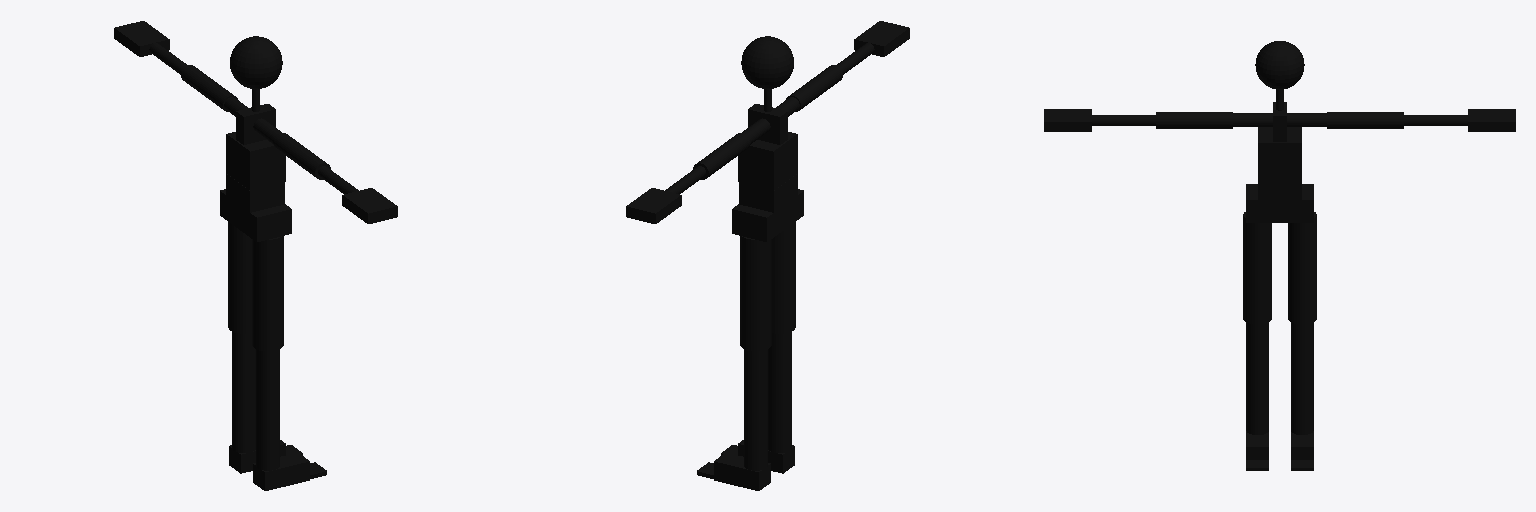
--- Facts derived from the render (not from the file) ---
3 views of the same robot in one strip: view 1: azimuth 30°, elevation 25°; view 2: azimuth 150°, elevation 25°; view 3: azimuth 270°, elevation 25° (orthographic).
Model XSensStyleModel_template with 51 links and 50 joints (48 revolute, 2 fixed), rooted at Pelvis, posed every joint at zero.
Visible links, largest first — view 1: RightUpperLeg, RightLowerLeg, LeftLowerLeg, LeftUpperLeg, Head, Pelvis, RightFoot, RightHand, T12, L5, LeftHand, L3 (+4 smaller); view 2: LeftUpperLeg, LeftLowerLeg, RightLowerLeg, RightUpperLeg, Head, Pelvis, LeftFoot, LeftHand, T12, L5, RightHand, L3 (+4 smaller); view 3: RightUpperLeg, LeftUpperLeg, RightLowerLeg, LeftLowerLeg, Pelvis, Head, RightUpperArm, LeftUpperArm, T12, RightHand, LeftHand, L5 (+7 smaller).
Link boxes in pixels (x1,y1,x2,y2): RightUpperLeg: [252, 236, 283, 351]; RightLowerLeg: [256, 350, 279, 470]; LeftLowerLeg: [232, 332, 255, 452]; LeftUpperLeg: [228, 222, 251, 333]; Head: [230, 36, 282, 88]; Pelvis: [220, 189, 291, 241]; RightFoot: [253, 453, 309, 490]; RightHand: [342, 188, 397, 223]; T12: [226, 132, 285, 170]; L5: [226, 174, 284, 212]; LeftHand: [114, 21, 169, 56]; L3: [226, 154, 285, 190]; LeftUpperLeg: [740, 236, 771, 351]; LeftLowerLeg: [744, 350, 767, 470]; RightLowerLeg: [768, 332, 791, 452]; RightUpperLeg: [772, 222, 795, 333]; Head: [741, 36, 793, 88]; Pelvis: [732, 189, 803, 241]; LeftFoot: [714, 453, 770, 490]; LeftHand: [626, 188, 681, 223]; T12: [738, 132, 797, 170]; L5: [739, 174, 797, 212]; RightHand: [854, 21, 909, 56]; L3: [738, 154, 797, 190]; RightUpperLeg: [1243, 212, 1271, 324]; LeftUpperLeg: [1288, 212, 1316, 324]; RightLowerLeg: [1246, 322, 1268, 434]; LeftLowerLeg: [1291, 322, 1313, 434]; Pelvis: [1246, 184, 1313, 222]; Head: [1255, 41, 1304, 89]; RightUpperArm: [1156, 112, 1232, 128]; LeftUpperArm: [1327, 112, 1403, 128]; T12: [1258, 127, 1301, 160]; RightHand: [1044, 109, 1091, 131]; LeftHand: [1468, 109, 1515, 131]; L5: [1258, 180, 1301, 199].
Size in the robot's own frame: 0.3288 by 1.9 by 1.81 metres.
Geometry: primitives only (box / cylinder / sphere), no mesh files.

The robot description file, URDF, robot "XSensStyleModel_template":
<!--URDF MODEL 48 DoFs-->

<robot name="XSensStyleModel_template">

<material name="color">
    <color rgba="0.1 0.1 0.1 1"/>
</material>

<!--To open this model with Gazebo replace the null masses, inertias and dimensions of the 'fake links f1 and f2'-->
    <!--LINKS-->
	<!--Link base (1)-->
	<link name="Pelvis">
        <inertial>
            <mass value="6.032"/>
			<!--COM origin wrt pHipOrigin-->
            <origin xyz="0           0     0.05412" rpy="0 0 0" />
            <inertia ixx="0.044245" iyy="0.017009" izz="0.050738" ixy="0" ixz="0" iyz="0"/>
        </inertial>

        <visual>
			<!--box origin wrt pHipOrigin-->
            <origin xyz="0           0     0.05412" rpy="0 0 0" />
            <geometry>
                <box size="0.1529      0.2785     0.10227"/>
            </geometry>
            <material name="color"/>
        </visual>

        <collision>
			<!--box origin wrt pHipOrigin-->
            <origin xyz="0           0     0.05412" rpy="0 0 0" />
            <geometry>
                <box size="0.1529      0.2785     0.10227"/>
            </geometry>
        </collision>

    </link>
    <!--Chain from (2) to (7)-->
	<link name="L5_f1">
        <inertial>
            <mass value="0"/>
            <origin xyz="0 0 0" rpy="0 0 0" />
            <inertia ixx="0" iyy="0" izz="0" ixy="0" ixz="0" iyz="0"/>
        </inertial>
    </link>
	<link name="L5">
        <inertial>
            <mass value="7.6908"/>
			<!--COM origin wrt jL5S1-->
            <origin xyz="0           0    0.045123" rpy="0 0 0" />
            <inertia ixx="0.026136" iyy="0.020203" izz="0.0359" ixy="0" ixz="0" iyz="0"/>
        </inertial>

        <visual>
			<!--box origin origin wrt jL5S1-->
            <origin xyz="0           0    0.045123" rpy="0 0 0" />
            <geometry>
                <box size="0.1529     0.18065    0.090247"/>
            </geometry>
            <material name="color"/>
        </visual>

        <collision>
			<!--box origin origin wrt jL5S1-->
            <origin xyz="0           0    0.045123" rpy="0 0 0" />
            <geometry>
                <box size="0.1529     0.18065    0.090247"/>
            </geometry>
        </collision>
    </link>
	<link name="L3_f1">
        <inertial>
            <mass value="0"/>
            <origin xyz="0 0 0" rpy="0 0 0" />
            <inertia ixx="0" iyy="0" izz="0" ixy="0" ixz="0" iyz="0"/>
        </inertial>
    </link>
	<link name="L3">
        <inertial>
            <mass value="7.6908"/>
			<!--COM origin wrt jL4L3-->
            <origin xyz="0           0    0.040754" rpy="0 0 0" />
            <inertia ixx="0.025174" iyy="0.019241" izz="0.0359" ixy="0" ixz="0" iyz="0"/>
        </inertial>

        <visual>
			<!--box origin origin wrt jL4L3-->
            <origin xyz="0           0    0.040754" rpy="0 0 0" />
            <geometry>
                <box size="0.1529     0.18065    0.081508"/>
            </geometry>
            <material name="color"/>
        </visual>

        <collision>
			<!--box origin origin wrt jL4L3-->
            <origin xyz="0           0    0.040754" rpy="0 0 0" />
            <geometry>
                <box size="0.1529     0.18065    0.081508"/>
            </geometry>
        </collision>
    </link>
	<link name="T12_f1">
        <inertial>
            <mass value="0"/>
            <origin xyz="0 0 0" rpy="0 0 0" />
            <inertia ixx="0" iyy="0" izz="0" ixy="0" ixz="0" iyz="0"/>
        </inertial>
    </link>
	<link name="T12">
        <inertial>
            <mass value="7.6908"/>
			<!--COM origin wrt jL1T12-->
            <origin xyz="0           0    0.040754" rpy="0 0 0" />
            <inertia ixx="0.025174" iyy="0.019241" izz="0.0359" ixy="0" ixz="0" iyz="0"/>
        </inertial>

        <visual>
			<!--box origin origin wrt jL1T12-->
            <origin xyz="0           0    0.040754" rpy="0 0 0" />
            <geometry>
                <box size="0.1529     0.18065    0.081508"/>
            </geometry>
            <material name="color"/>
        </visual>

        <collision>
			<!--box origin origin wrt jL1T12-->
            <origin xyz="0           0    0.040754" rpy="0 0 0" />
            <geometry>
                <box size="0.1529     0.18065    0.081508"/>
            </geometry>
        </collision>
    </link>
	<link name="T8_f1">
        <inertial>
            <mass value="0"/>
            <origin xyz="0 0 0" rpy="0 0 0" />
            <inertia ixx="0" iyy="0" izz="0" ixy="0" ixz="0" iyz="0"/>
        </inertial>
    </link>
	<link name="T8_f2">
        <inertial>
            <mass value="0"/>
            <origin xyz="0 0 0" rpy="0 0 0" />
            <inertia ixx="0" iyy="0" izz="0" ixy="0" ixz="0" iyz="0"/>
        </inertial>
    </link>
	<link name="T8">
        <inertial>
            <mass value="3.016"/>
			<!--COM origin wrt jT9T8-->
            <origin xyz="0           0    0.058159" rpy="0 0 0" />
            <inertia ixx="0.0042886" iyy="0.0082897" izz="0.0057774" ixy="0" ixz="0" iyz="0"/>
        </inertial>

        <visual>
			<!--box origin wrt jT9T8-->
            <origin xyz="0           0    0.058159" rpy="0 0 0" />
            <geometry>
                <box size="0.13947    0.059444     0.11632"/>
            </geometry>
            <material name="color"/>
        </visual>

        <collision>
			<!--box origin wrt jT9T8-->
            <origin xyz="0           0    0.058159" rpy="0 0 0" />
            <geometry>
                <box size="0.13947    0.059444     0.11632"/>
            </geometry>
        </collision>

    </link>
	<link name="Neck_f1">
        <inertial>
            <mass value="0"/>
            <origin xyz="0 0 0" rpy="0 0 0" />
            <inertia ixx="0" iyy="0" izz="0" ixy="0" ixz="0" iyz="0"/>
        </inertial>
    </link>
	<link name="Neck_f2">
        <inertial>
            <mass value="0"/>
            <origin xyz="0 0 0" rpy="0 0 0" />
            <inertia ixx="0" iyy="0" izz="0" ixy="0" ixz="0" iyz="0"/>
        </inertial>
    </link>
	<link name="Neck">
        <inertial>
            <mass value="0.9048"/>
			<!--COM origin wrt jT1C7-->
            <origin xyz="0           0    0.048265" rpy="0 0 0" />
            <inertia ixx="0.00092111" iyy="0.00092111" izz="0.00043709" ixy="0" ixz="0" iyz="0"/>
        </inertial>

        <visual>
			<!--box origin wrt jT1C7-->
            <origin xyz="0           0    0.048265" rpy="0 0 0" />
            <geometry>
		<cylinder length="0.096529" radius="0.015541"/>
            </geometry>
            <material name="color"/>
        </visual>

        <collision>
			<!--box origin wrt jT1C7-->
            <origin xyz="0           0    0.048265" rpy="0 0 0" />
            <geometry>
                <cylinder length="0.096529" radius="0.015541"/>
            </geometry>
        </collision>
    </link>
	<link name="Head_f1">
        <inertial>
            <mass value="0"/>
            <origin xyz="0 0 0" rpy="0 0 0" />
            <inertia ixx="0" iyy="0" izz="0" ixy="0" ixz="0" iyz="0"/>
        </inertial>
    </link>
	<link name="Head">
        <inertial>
            <mass value="2.7144"/>
			<!--COM origin wrt jC1Head-->
            <origin xyz="0           0    0.099278" rpy="0 0 0" />
            <inertia ixx="0.010701" iyy="0.010701" izz="0.010701" ixy="0" ixz="0" iyz="0"/>
        </inertial>

        <visual>
			<!--boc origin wrt jC1Head-->
            <origin xyz="0           0    0.099278" rpy="0 0 0" />
            <geometry>
                <sphere radius="0.099278"/>
            </geometry>
            <material name="color"/>
        </visual>

        <collision>
			<!--box origin wrt jC1Head-->
            <origin xyz="0           0    0.099278" rpy="0 0 0" />
            <geometry>
                <sphere radius="0.099278"/>
            </geometry>
        </collision>

    </link>
	<!--Chain from (8) to (11)-->
	<link name="RightShoulder">
        <inertial>
            <mass value="2.3374"/>
			<!--COM origin wrt jRightC7Shoulder-->
            <origin xyz="0   -0.079794           0" rpy="0 0 0" />
            <inertia ixx="0.005427" iyy="0.00093233" izz="0.005427" ixy="0" ixz="0" iyz="0"/>
        </inertial>

        <visual>
			<!--box origin wrt jRightC7Shoulder. RPY rotated of pi/2.-->
            <origin xyz="0   -0.079794           0" rpy="1.5708 0 0" />
            <geometry>
                <cylinder length="0.15959" radius="0.028244"/>
            </geometry>
            <material name="color"/>
        </visual>

        <collision>
			<!--box origin wrt jRightC7Shoulder. RPY rotated of pi/2.-->
            <origin xyz="0   -0.079794           0" rpy="1.5708 0 0" />
            <geometry>
                <cylinder length="0.15959" radius="0.028244"/>
            </geometry>
        </collision>

    </link>
	<link name="RightUpperArm_f1">
        <inertial>
            <mass value="0"/>
            <origin xyz="0 0 0" rpy="0 0 0" />
            <inertia ixx="0" iyy="0" izz="0" ixy="0" ixz="0" iyz="0"/>
        </inertial>
    </link>
	<link name="RightUpperArm_f2">
        <inertial>
            <mass value="0"/>
            <origin xyz="0 0 0" rpy="0 0 0" />
            <inertia ixx="0" iyy="0" izz="0" ixy="0" ixz="0" iyz="0"/>
        </inertial>
    </link>
    <link name="RightUpperArm">
        <inertial>
            <mass value="2.262"/>
			<!--COM origin wrt jRightShoulder-->
            <origin xyz="0    -0.15626           0" rpy="0 0 0" />
            <inertia ixx="0.019063" iyy="0.0013033" izz="0.019063" ixy="0" ixz="0" iyz="0"/>
        </inertial>

        <visual>
			<!--box origin wrt jRightShoulder. RPY rotated of pi/2.-->
            <origin xyz="0    -0.15626           0" rpy="1.5708 0 0" />
            <geometry>
                <cylinder length="0.31253" radius="0.033946"/>
            </geometry>
            <material name="color"/>
        </visual>

        <collision>
			<!--box origin wrt jRightShoulder. RPY rotated of pi/2.-->
            <origin xyz="0    -0.15626           0" rpy="1.5708 0 0" />
            <geometry>
                <cylinder length="0.31253" radius="0.033946"/>
            </geometry>
        </collision>

    </link>
	<link name="RightForeArm_f1">
        <inertial>
            <mass value="0"/>
            <origin xyz="0 0 0" rpy="0 0 0" />
            <inertia ixx="0" iyy="0" izz="0" ixy="0" ixz="0" iyz="0"/>
        </inertial>
    </link>
	<link name="RightForeArm">
        <inertial>
            <mass value="1.508"/>
			<!--COM origin wrt jRightElbow-->
            <origin xyz="0    -0.12824           0" rpy="0 0 0" />
            <inertia ixx="0.0084595" iyy="0.00038616" izz="0.0084595" ixy="0" ixz="0" iyz="0"/>
        </inertial>

        <visual>
			<!--box origin wrt jRightElbow. RPY rotated of pi/2.-->
            <origin xyz="0    -0.12824           0" rpy="1.5708 0 0" />
            <geometry>
                <cylinder length="0.25648" radius="0.022631"/>
            </geometry>
            <material name="color"/>
        </visual>

        <collision>
			<!--box origin wrt jRightElbow. RPY rotated of pi/2.-->
            <origin xyz="0    -0.12824           0" rpy="1.5708 0 0" />
            <geometry>
                <cylinder length="0.25648" radius="0.022631"/>
            </geometry>
        </collision>

    </link>
	<link name="RightHand_f1">
        <inertial>
            <mass value="0"/>
            <origin xyz="0 0 0" rpy="0 0 0" />
            <inertia ixx="0" iyy="0" izz="0" ixy="0" ixz="0" iyz="0"/>
        </inertial>
    </link>
	<link name="RightHand">
        <inertial>
            <mass value="0.4524"/>
			<!--COM origin wrt jRightWrist-->
            <origin xyz="0   -0.096206           0" rpy="0 0 0" />
            <inertia ixx="0.001473" iyy="0.00069756" izz="0.0020161" ixy="0" ixz="0" iyz="0"/>
        </inertial>

        <visual>
			<!--box origin wrt jRightWrist-->
            <origin xyz="0   -0.096206           0" rpy="0 0 0" />
            <geometry>
                <box size="0.12827     0.19241    0.045261"/>
            </geometry>
            <material name="color"/>
        </visual>

        <collision>
			<!--box origin wrt jRightWrist-->
            <origin xyz="0   -0.096206           0" rpy="0 0 0" />
            <geometry>
                <box size="0.12827     0.19241    0.045261"/>
            </geometry>
        </collision>

    </link>
    <link name="RightHandCOM">
        <inertial>
            <mass value="0.00001"/>
            <origin xyz="0 0 0" rpy="0 0 0" />
            <inertia ixx="0" iyy="0" izz="0" ixy="0" ixz="0" iyz="0"/>
        </inertial>
        <visual>
            <!--box origin wrt jRightWrist-->
            <origin xyz="0   0           0" rpy="0 0 0" />
            <geometry>
                <box size="0     0    0"/>
            </geometry>
            <material name="color"/>
        </visual>
    </link>
	<!--Chain from (12) to (15)-->
	<link name="LeftShoulder">
        <inertial>
            <mass value="2.3374"/>
			<!--COM origin wrt jLeftC7Shoulder-->
            <origin xyz="0    0.079794           0" rpy="0 0 0" />
            <inertia ixx="0.005427" iyy="0.00093233" izz="0.005427" ixy="0" ixz="0" iyz="0"/>
        </inertial>

        <visual>
			<!--box origin wrt jLeftC7Shoulder. RPY rotated of pi/2.-->
            <origin xyz="0    0.079794           0" rpy="1.5708 0 0" />
            <geometry>
                <cylinder length="0.15959" radius="0.028244"/>
            </geometry>
            <material name="color"/>
        </visual>

        <collision>
			<!--box origin wrt jLeftC7Shoulder. RPY rotated of pi/2.-->
            <origin xyz="0    0.079794           0" rpy="1.5708 0 0" />
            <geometry>
                <cylinder length="0.15959" radius="0.028244"/>
            </geometry>
        </collision>

    </link>
	<link name="LeftUpperArm_f1">
        <inertial>
            <mass value="0"/>
            <origin xyz="0 0 0" rpy="0 0 0" />
            <inertia ixx="0" iyy="0" izz="0" ixy="0" ixz="0" iyz="0"/>
        </inertial>
    </link>
	<link name="LeftUpperArm_f2">
        <inertial>
            <mass value="0"/>
            <origin xyz="0 0 0" rpy="0 0 0" />
            <inertia ixx="0" iyy="0" izz="0" ixy="0" ixz="0" iyz="0"/>
        </inertial>
    </link>
	<link name="LeftUpperArm">
        <inertial>
            <mass value="2.262"/>
			<!--COM origin wrt jLeftShoulder-->
            <origin xyz="0     0.15626           0" rpy="0 0 0" />
            <inertia ixx="0.019063" iyy="0.0013033" izz="0.019063" ixy="0" ixz="0" iyz="0"/>
        </inertial>

        <visual>
			<!--box origin wrt jLeftShoulder. RPY rotated of pi/2.-->
            <origin xyz="0     0.15626           0" rpy="1.5708 0 0" />
            <geometry>
                <cylinder length="0.31253" radius="0.033946"/>
            </geometry>
            <material name="color"/>
        </visual>

        <collision>
			<!--box origin wrt jLeftShoulder. RPY rotated of pi/2.-->
            <origin xyz="0     0.15626           0" rpy="1.5708 0 0" />
            <geometry>
                <cylinder length="0.31253" radius="0.033946"/>
            </geometry>
        </collision>

    </link>
	<link name="LeftForeArm_f1">
        <inertial>
            <mass value="0"/>
            <origin xyz="0 0 0" rpy="0 0 0" />
            <inertia ixx="0" iyy="0" izz="0" ixy="0" ixz="0" iyz="0"/>
        </inertial>
    </link>
	<link name="LeftForeArm">
        <inertial>
            <mass value="1.508"/>
			<!--COM origin wrt jLeftElbow-->
            <origin xyz="0     0.12824           0" rpy="0 0 0" />
            <inertia ixx="0.0084595" iyy="0.00038616" izz="0.0084595" ixy="0" ixz="0" iyz="0"/>
        </inertial>

        <visual>
			<!--box origin wrt jLeftElbow. RPY rotated of pi/2.-->
            <origin xyz="0     0.12824           0" rpy="1.5708 0 0" />
            <geometry>
                <cylinder length="0.25648" radius="0.022631"/>
            </geometry>
            <material name="color"/>
        </visual>

        <collision>
			<!--box origin wrt jLeftElbow. RPY rotated of pi/2.-->
            <origin xyz="0     0.12824           0" rpy="1.5708 0 0" />
            <geometry>
                <cylinder length="0.25648" radius="0.022631"/>
            </geometry>
        </collision>

    </link>
	<link name="LeftHand_f1">
        <inertial>
            <mass value="0"/>
            <origin xyz="0 0 0" rpy="0 0 0" />
            <inertia ixx="0" iyy="0" izz="0" ixy="0" ixz="0" iyz="0"/>
        </inertial>
    </link>
	<link name="LeftHand">
        <inertial>
            <mass value="0.4524"/>
			<!--COM origin wrt jLeftWrist-->
            <origin xyz="0    0.096206           0" rpy="0 0 0" />
            <inertia ixx="0.001473" iyy="0.00069756" izz="0.0020161" ixy="0" ixz="0" iyz="0"/>
        </inertial>

        <visual>
			<!--COM origin wrt jLeftWrist-->
            <origin xyz="0    0.096206           0" rpy="0 0 0" />
            <geometry>
                <box size="0.12827     0.19241    0.045261"/>
            </geometry>
            <material name="color"/>
        </visual>

        <collision>
			<!--COM origin wrt jLeftWrist-->
            <origin xyz="0    0.096206           0" rpy="0 0 0" />
            <geometry>
                <box size="0.12827     0.19241    0.045261"/>
            </geometry>
        </collision>

    </link>
    <link name="LeftHandCOM">
        <inertial>
            <mass value="0.00001"/>
            <origin xyz="0 0 0" rpy="0 0 0" />
            <inertia ixx="0" iyy="0" izz="0" ixy="0" ixz="0" iyz="0"/>
        </inertial>
        <visual>
            <!--COM origin wrt jLeftWrist-->
            <origin xyz="0    0           0" rpy="0 0 0" />
            <geometry>
                <box size="0     0    0"/>
            </geometry>
            <material name="color"/>
        </visual>
    </link>
	<!--Chain from (16) to (19)-->
	<link name="RightUpperLeg_f1">
        <inertial>
            <mass value="0"/>
            <origin xyz="0 0 0" rpy="0 0 0" />
            <inertia ixx="0" iyy="0" izz="0" ixy="0" ixz="0" iyz="0"/>
        </inertial>
    </link>
	<link name="RightUpperLeg_f2">
        <inertial>
            <mass value="0"/>
            <origin xyz="0 0 0" rpy="0 0 0" />
            <inertia ixx="0" iyy="0" izz="0" ixy="0" ixz="0" iyz="0"/>
        </inertial>
    </link>
    <link name="RightUpperLeg">
        <inertial>
            <mass value="9.425"/>
			<!--COM origin wrt jRightHip-->
            <origin xyz="0           0    -0.23081" rpy="0 0 0" />
            <inertia ixx="0.17541" iyy="0.17541" izz="0.016095" ixy="0" ixz="0" iyz="0"/>
        </inertial>

        <visual>
			<!--box origin wrt jRightHip-->
            <origin xyz="0           0    -0.23081" rpy="0 0 0" />
            <geometry>
                <cylinder length="0.46162" radius="0.058441"/>
            </geometry>
            <material name="color"/>
        </visual>

        <collision>
			<!--box origin wrt jRightHip-->
            <origin xyz="0           0    -0.23081" rpy="0 0 0" />
            <geometry>
                <cylinder length="0.46162" radius="0.058441"/>
            </geometry>
        </collision>

    </link>
	<link name="RightLowerLeg_f1">
        <inertial>
            <mass value="0"/>
            <origin xyz="0 0 0" rpy="0 0 0" />
            <inertia ixx="0" iyy="0" izz="0" ixy="0" ixz="0" iyz="0"/>
        </inertial>
    </link>
    <link name="RightLowerLeg">
        <inertial>
            <mass value="2.7521"/>
			<!--COM origin wrt jRightKnee-->
            <origin xyz="0           0    -0.24913" rpy="0 0 0" />
            <inertia ixx="0.058368" iyy="0.058368" izz="0.0028618" ixy="0" ixz="0" iyz="0"/>
        </inertial>

        <visual>
			<!--box origin wrt jRightKnee-->
            <origin xyz="0           0    -0.24913" rpy="0 0 0" />
            <geometry>
                <cylinder length="0.49826" radius="0.045604"/>
            </geometry>
            <material name="color"/>
        </visual>

        <collision>
			<!--box origin wrt jRightKnee-->
            <origin xyz="0           0    -0.24913" rpy="0 0 0" />
            <geometry>
                <cylinder length="0.49826" radius="0.045604"/>
            </geometry>
        </collision>

    </link>
	<link name="RightFoot_f1">
        <inertial>
            <mass value="0"/>
            <origin xyz="0 0 0" rpy="0 0 0" />
            <inertia ixx="0" iyy="0" izz="0" ixy="0" ixz="0" iyz="0"/>
        </inertial>
    </link>
	<link name="RightFoot_f2">
        <inertial>
            <mass value="0"/>
            <origin xyz="0 0 0" rpy="0 0 0" />
            <inertia ixx="0" iyy="0" izz="0" ixy="0" ixz="0" iyz="0"/>
        </inertial>
    </link>
    <link name="RightFoot">
        <inertial>
            <mass value="0.9802"/>
			<!--COM origin wrt jRightAnkle-->
            <origin xyz="0.058597           0   -0.039505" rpy="0 0 0" />
            <inertia ixx="0.0011894" iyy="0.0036242" izz="0.0037938" ixy="0" ixz="0" iyz="0"/>
        </inertial>

        <visual>
			<!--box origin wrt jRightAnkle-->
	    	<origin xyz="0.058597           0   -0.039505" rpy="0 0 0" />
            <geometry>
                <box size="0.19526    0.091208     0.07901"/>
            </geometry>
            <material name="color"/>
        </visual>

        <collision>
			<!--box origin wrt jRightAnkle-->
		    <origin xyz="0.058597           0   -0.039505" rpy="0 0 0" />
	            <geometry>
	                <box size="0.19526    0.091208     0.07901"/>
	            </geometry>
        </collision>

    </link>
    <link name="RightToe">
        <inertial>
            <mass value="0.1131"/>
			<!--COM origin wrt jRightBallFoot-->
            <origin xyz="0.037369           0           0" rpy="0 0 0" />
            <inertia ixx="8.1141e-05" iyy="5.5383e-05" izz="0.00013105" ixy="0" ixz="0" iyz="0"/>
        </inertial>

        <visual>
			<!--box origin wrt jRightBallFoot-->
            <origin xyz="0.037369           0           0" rpy="0 0 0" />
            <geometry>
                <box size="0.074739    0.091208    0.017037"/>
            </geometry>
            <material name="color"/>
        </visual>

        <collision>
			<!--box origin wrt jRightBallFoot-->
            <origin xyz="0.037369           0           0" rpy="0 0 0" />
            <geometry>
                <box size="0.074739    0.091208    0.017037"/>
            </geometry>
        </collision>
    </link>
	<!--Chain from (20) to (23)-->
	<link name="LeftUpperLeg_f1">
        <inertial>
            <mass value="0"/>
            <origin xyz="0 0 0" rpy="0 0 0" />
            <inertia ixx="0" iyy="0" izz="0" ixy="0" ixz="0" iyz="0"/>
        </inertial>
    </link>
	<link name="LeftUpperLeg_f2">
        <inertial>
            <mass value="0"/>
            <origin xyz="0 0 0" rpy="0 0 0" />
            <inertia ixx="0" iyy="0" izz="0" ixy="0" ixz="0" iyz="0"/>
        </inertial>
    </link>
    <link name="LeftUpperLeg">
        <inertial>
            <mass value="9.425"/>
			<!--COM origin wrt jLeftHip-->
            <origin xyz="0           0    -0.23081" rpy="0 0 0" />
            <inertia ixx="0.17541" iyy="0.17541" izz="0.016095" ixy="0" ixz="0" iyz="0"/>
        </inertial>

        <visual>
			<!--box origin wrt jLeftHip-->
            <origin xyz="0           0    -0.23081" rpy="0 0 0" />
            <geometry>
                <cylinder length="0.46162" radius="0.058441"/>
            </geometry>
            <material name="color"/>
        </visual>

        <collision>
			<!--box origin wrt jLeftHip-->
            <origin xyz="0           0    -0.23081" rpy="0 0 0" />
            <geometry>
                <cylinder length="0.46162" radius="0.058441"/>
            </geometry>
        </collision>

    </link>
	<link name="LeftLowerLeg_f1">
        <inertial>
            <mass value="0"/>
            <origin xyz="0 0 0" rpy="0 0 0" />
            <inertia ixx="0" iyy="0" izz="0" ixy="0" ixz="0" iyz="0"/>
        </inertial>
    </link>
	<link name="LeftLowerLeg">
        <inertial>
            <mass value="2.7521"/>
			<!--COM origin wrt jLeftKnee-->
            <origin xyz="0           0    -0.24913" rpy="0 0 0" />
            <inertia ixx="0.058368" iyy="0.058368" izz="0.0028618" ixy="0" ixz="0" iyz="0"/>
        </inertial>

        <visual>
			<!--box origin wrt jLeftKnee-->
            <origin xyz="0           0    -0.24913" rpy="0 0 0" />
            <geometry>
		<cylinder length="0.49826" radius="0.045604"/>
            </geometry>
            <material name="color"/>
        </visual>

        <collision>
			<!--box origin wrt jLeftKnee-->
            <origin xyz="0           0    -0.24913" rpy="0 0 0" />
            <geometry>
		<cylinder length="0.49826" radius="0.045604"/>
            </geometry>
        </collision>

    </link>
	<link name="LeftFoot_f1">
        <inertial>
            <mass value="0"/>
            <origin xyz="0 0 0" rpy="0 0 0" />
            <inertia ixx="0" iyy="0" izz="0" ixy="0" ixz="0" iyz="0"/>
        </inertial>
    </link>
	<link name="LeftFoot_f2">
        <inertial>
            <mass value="0"/>
            <origin xyz="0 0 0" rpy="0 0 0" />
            <inertia ixx="0" iyy="0" izz="0" ixy="0" ixz="0" iyz="0"/>
        </inertial>
    </link>
    <link name="LeftFoot">
        <inertial>
            <mass value="0.9802"/>
			<!--COM origin wrt jLeftAnkle-->
            <origin xyz="0.058597           0   -0.039505" rpy="0 0 0" />
            <inertia ixx="0.0011894" iyy="0.0036242" izz="0.0037938" ixy="0" ixz="0" iyz="0"/>
        </inertial>

        <visual>
			<!--box origin wrt jLeftAnkle-->
	   	 	<origin xyz="0.058597           0   -0.039505" rpy="0 0 0" />
            <geometry>
                <box size="0.19526    0.091208     0.07901"/>
            </geometry>
            <material name="color"/>
        </visual>

        <collision>
			<!--box origin wrt jLeftAnkle-->
		    <origin xyz="0.058597           0   -0.039505" rpy="0 0 0" />
	            <geometry>
	                <box size="0.19526    0.091208     0.07901"/>
	            </geometry>
        </collision>

    </link>
	<link name="LeftToe">
        <inertial>
            <mass value="0.1131"/>
			<!--COM origin wrt jLeftBallFoot-->
            <origin xyz="0.037369           0           0" rpy="0 0 0" />
            <inertia ixx="8.1141e-05" iyy="5.5383e-05" izz="0.00013105" ixy="0" ixz="0" iyz="0"/>
        </inertial>

        <visual>
			<!--box origin wrt jLeftBallFoot-->
            <origin xyz="0.037369           0           0" rpy="0 0 0" />
            <geometry>
                <box size="0.074739    0.091208    0.017037"/>
            </geometry>
            <material name="color"/>
        </visual>

        <collision>
			<!--box origin wrt jLeftBallFoot-->
            <origin xyz="0.037369           0           0" rpy="0 0 0" />
            <geometry>
                <box size="0.074739    0.091208    0.017037"/>
            </geometry>
        </collision>
    </link>


	<!--JOINTS-->
	<!--Chain from (2) to (7)-->
	<joint name="jL5S1_rotx" type="revolute">
        <origin xyz="-0.000609           0     0.10526" rpy="0 0 0"/>
        <parent link="Pelvis"/>
        <child link="L5_f1"/>
        <dynamics damping="0.1" friction="0.0"/>
        <limit effort="30" velocity="1.0" lower="-10.0" upper="10.0" />
        <axis xyz="1 0 0" />
    </joint>
	<joint name="jL5S1_roty" type="revolute">
        <origin xyz="0 0 0" rpy="0 0 0"/>
        <parent link="L5_f1"/>
        <child link="L5"/>
        <dynamics damping="0.1" friction="0.0"/>
        <limit effort="30" velocity="1.0" lower="-10.0" upper="10.0" />
        <axis xyz="0 1 0" />
    </joint>
	<joint name="jL4L3_rotx" type="revolute">
        <origin xyz="0.001106           0    0.090247" rpy="0 0 0"/>
        <parent link="L5"/>
        <child link="L3_f1"/>
        <dynamics damping="0.1" friction="0.0"/>
        <limit effort="30" velocity="1.0" lower="-10.0" upper="10.0" />
        <axis xyz="1 0 0" />
    </joint>
	<joint name="jL4L3_roty" type="revolute">
        <origin xyz="0 0 0" rpy="0 0 0"/>
        <parent link="L3_f1"/>
        <child link="L3"/>
        <dynamics damping="0.1" friction="0.0"/>
        <limit effort="30" velocity="1.0" lower="-10.0" upper="10.0" />
        <axis xyz="0 1 0" />
    </joint>
	<joint name="jL1T12_rotx" type="revolute">
        <origin xyz="0           0    0.081508" rpy="0 0 0"/>
        <parent link="L3"/>
        <child link="T12_f1"/>
        <dynamics damping="0.1" friction="0.0"/>
        <limit effort="30" velocity="1.0" lower="-10.0" upper="10.0" />
        <axis xyz="1 0 0" />
    </joint>
	<joint name="jL1T12_roty" type="revolute">
        <origin xyz="0 0 0" rpy="0 0 0"/>
        <parent link="T12_f1"/>
        <child link="T12"/>
        <dynamics damping="0.1" friction="0.0"/>
        <limit effort="30" velocity="1.0" lower="-10.0" upper="10.0" />
        <axis xyz="0 1 0" />
    </joint>
	<joint name="jT9T8_rotx" type="revolute">
        <origin xyz="0           0    0.081508" rpy="0 0 0"/>
        <parent link="T12"/>
        <child link="T8_f1"/>
        <dynamics damping="0.1" friction="0.0"/>
        <limit effort="30" velocity="1.0" lower="-10.0" upper="10.0" />
        <axis xyz="1 0 0" />
    </joint>
	<joint name="jT9T8_roty" type="revolute">
        <origin xyz="0 0 0" rpy="0 0 0"/>
        <parent link="T8_f1"/>
        <child link="T8_f2"/>
        <dynamics damping="0.1" friction="0.0"/>
        <limit effort="30" velocity="1.0" lower="-10.0" upper="10.0" />
        <axis xyz="0 1 0" />
    </joint>
    <joint name="jT9T8_rotz" type="revolute">
        <origin xyz="0 0 0" rpy="0 0 0"/>
        <parent link="T8_f2"/>
        <child link="T8"/>
        <dynamics damping="0.1" friction="0.0"/>
        <limit effort="30" velocity="1.0" lower="-10.0" upper="10.0" />
        <axis xyz="0 0 1" />
    </joint>
	<joint name="jT1C7_rotx" type="revolute">
        <origin xyz="0           0     0.11632" rpy="0 0 0"/>
        <parent link="T8"/>
        <child link="Neck_f1"/>
        <dynamics damping="0.1" friction="0.0"/>
        <limit effort="30" velocity="1.0" lower="-10.0" upper="10.0" />
        <axis xyz="1 0 0" />
    </joint>
	<joint name="jT1C7_roty" type="revolute">
        <origin xyz="0 0 0" rpy="0 0 0"/>
        <parent link="Neck_f1"/>
        <child link="Neck_f2"/>
        <dynamics damping="0.1" friction="0.0"/>
        <limit effort="30" velocity="1.0" lower="-10.0" upper="10.0" />
        <axis xyz="0 1 0" />
    </joint>
    <joint name="jT1C7_rotz" type="revolute">
        <origin xyz="0 0 0" rpy="0 0 0"/>
        <parent link="Neck_f2"/>
        <child link="Neck"/>
        <dynamics damping="0.1" friction="0.0"/>
        <limit effort="30" velocity="1.0" lower="-10.0" upper="10.0" />
        <axis xyz="0 0 1" />
    </joint>
	<joint name="jC1Head_rotx" type="revolute">
        <origin xyz="0.000997           0    0.096529" rpy="0 0 0"/>
        <parent link="Neck"/>
        <child link="Head_f1"/>
        <dynamics damping="0.1" friction="0.0"/>
        <limit effort="30" velocity="1.0" lower="-10.0" upper="10.0" />
        <axis xyz="1 0 0" />
    </joint>
	<joint name="jC1Head_roty" type="revolute">
        <origin xyz="0 0 0" rpy="0 0 0"/>
        <parent link="Head_f1"/>
        <child link="Head"/>
        <dynamics damping="0.1" friction="0.0"/>
        <limit effort="30" velocity="1.0" lower="-10.0" upper="10.0" />
        <axis xyz="0 1 0" />
    </joint>
	<!--Chain from (8) to (11)-->
	<joint name="jRightC7Shoulder_rotx" type="revolute">
        <origin xyz="0   -0.029722    0.065597" rpy="0 0 0"/>
        <parent link="T8"/>
        <child link="RightShoulder"/>
        <dynamics damping="0.1" friction="0.0"/>
        <limit effort="30" velocity="1.0" lower="-10.0" upper="10.0" />
        <axis xyz="1 0 0" />
    </joint>
	<joint name="jRightShoulder_rotx" type="revolute">
        <origin xyz="0    -0.15959           0" rpy="0 0 0"/>
        <parent link="RightShoulder"/>
        <child link="RightUpperArm_f1"/>
        <dynamics damping="0.1" friction="0.0"/>
        <limit effort="30" velocity="1.0" lower="-10.0" upper="10.0" />
        <axis xyz="1 0 0" />
    </joint>
	<joint name="jRightShoulder_roty" type="revolute">
        <origin xyz="0 0 0" rpy="0 0 0"/>
        <parent link="RightUpperArm_f1"/>
        <child link="RightUpperArm_f2"/>
        <dynamics damping="0.1" friction="0.0"/>
        <limit effort="30" velocity="1.0" lower="-10.0" upper="10.0" />
        <axis xyz="0 1 0" />
    </joint>
    <joint name="jRightShoulder_rotz" type="revolute">
        <origin xyz="0 0 0" rpy="0 0 0"/>
        <parent link="RightUpperArm_f2"/>
        <child link="RightUpperArm"/>
        <dynamics damping="0.1" friction="0.0"/>
        <limit effort="30" velocity="1.0" lower="-10.0" upper="10.0" />
        <axis xyz="0 0 1" />
    </joint>
	<joint name="jRightElbow_roty" type="revolute">
        <origin xyz="0    -0.31253           0" rpy="0 0 0"/>
        <parent link="RightUpperArm"/>
        <child link="RightForeArm_f1"/>
        <dynamics damping="0.1" friction="0.0"/>
        <limit effort="30" velocity="1.0" lower="-10.0" upper="10.0" />
        <axis xyz="0 1 0" />
    </joint>
	<joint name="jRightElbow_rotz" type="revolute">
        <origin xyz="0 0 0" rpy="0 0 0"/>
        <parent link="RightForeArm_f1"/>
        <child link="RightForeArm"/>
        <dynamics damping="0.1" friction="0.0"/>
        <limit effort="30" velocity="1.0" lower="-10.0" upper="10.0" />
        <axis xyz="0 0 1" />
    </joint>
	<joint name="jRightWrist_rotx" type="revolute">
        <origin xyz="3.3e-05    -0.25648           0" rpy="0 0 0"/>
        <parent link="RightForeArm"/>
        <child link="RightHand_f1"/>
        <dynamics damping="0.1" friction="0.0"/>
        <limit effort="30" velocity="1.0" lower="-10.0" upper="10.0" />
        <axis xyz="1 0 0" />
    </joint>
	<joint name="jRightWrist_rotz" type="revolute">
        <origin xyz="0 0 0" rpy="0 0 0"/>
        <parent link="RightHand_f1"/>
        <child link="RightHand"/>
        <dynamics damping="0.1" friction="0.0"/>
        <limit effort="30" velocity="1.0" lower="-10.0" upper="10.0" />
        <axis xyz="0 0 1" />
    </joint>
    <joint name="jRightHandCOM" type="fixed">
        <origin xyz="0 -0.096206 0" rpy="0 0 0"/>
        <parent link="RightHand"/>
        <child link="RightHandCOM"/>
        <axis xyz="0 0 0" />
    </joint>
	<!--Chain from (12) to (15)-->
	<joint name="jLeftC7Shoulder_rotx" type="revolute">
        <origin xyz="0    0.029722    0.065597" rpy="0 0 0"/>
        <parent link="T8"/>
        <child link="LeftShoulder"/>
        <dynamics damping="0.1" friction="0.0"/>
        <limit effort="30" velocity="1.0" lower="-10.0" upper="10.0" />
        <axis xyz="1 0 0" />
    </joint>
	<joint name="jLeftShoulder_rotx" type="revolute">
        <origin xyz="0     0.15959           0" rpy="0 0 0"/>
        <parent link="LeftShoulder"/>
        <child link="LeftUpperArm_f1"/>
        <dynamics damping="0.1" friction="0.0"/>
        <limit effort="30" velocity="1.0" lower="-10.0" upper="10.0" />
        <axis xyz="1 0 0" />
    </joint>
	<joint name="jLeftShoulder_roty" type="revolute">
        <origin xyz="0 0 0" rpy="0 0 0"/>
        <parent link="LeftUpperArm_f1"/>
        <child link="LeftUpperArm_f2"/>
        <dynamics damping="0.1" friction="0.0"/>
        <limit effort="30" velocity="1.0" lower="-10.0" upper="10.0" />
        <axis xyz="0 1 0" />
    </joint>
    <joint name="jLeftShoulder_rotz" type="revolute">
        <origin xyz="0 0 0" rpy="0 0 0"/>
        <parent link="LeftUpperArm_f2"/>
        <child link="LeftUpperArm"/>
        <dynamics damping="0.1" friction="0.0"/>
        <limit effort="30" velocity="1.0" lower="-10.0" upper="10.0" />
        <axis xyz="0 0 1" />
    </joint>
    <joint name="jLeftElbow_roty" type="revolute">
        <origin xyz="0     0.31253           0" rpy="0 0 0"/>
        <parent link="LeftUpperArm"/>
        <child link="LeftForeArm_f1"/>
        <dynamics damping="0.1" friction="0.0"/>
        <limit effort="30" velocity="1.0" lower="-10.0" upper="10.0" />
        <axis xyz="0 1 0" />
    </joint>
    <joint name="jLeftElbow_rotz" type="revolute">
        <origin xyz="0 0 0" rpy="0 0 0"/>
        <parent link="LeftForeArm_f1"/>
        <child link="LeftForeArm"/>
        <dynamics damping="0.1" friction="0.0"/>
        <limit effort="30" velocity="1.0" lower="-10.0" upper="10.0" />
        <axis xyz="0 0 1" />
    </joint>
	<joint name="jLeftWrist_rotx" type="revolute">
        <origin xyz="3.3e-05     0.25648           0" rpy="0 0 0"/>
        <parent link="LeftForeArm"/>
        <child link="LeftHand_f1"/>
        <dynamics damping="0.1" friction="0.0"/>
        <limit effort="30" velocity="1.0" lower="-10.0" upper="10.0" />
        <axis xyz="1 0 0" />
    </joint>
	<joint name="jLeftWrist_rotz" type="revolute">
        <origin xyz="0 0 0" rpy="0 0 0"/>
        <parent link="LeftHand_f1"/>
        <child link="LeftHand"/>
        <dynamics damping="0.1" friction="0.0"/>
        <limit effort="30" velocity="1.0" lower="-10.0" upper="10.0" />
        <axis xyz="0 0 1" />
    </joint>
    <joint name="jLeftHandCOM" type="fixed">
        <origin xyz="0 0.096206 0" rpy="0 0 0"/>
        <parent link="LeftHand"/>
        <child link="LeftHandCOM"/>
        <axis xyz="0 0 0" />
    </joint>
	<!--Chain from (16) to (19)-->
	<joint name="jRightHip_rotx" type="revolute">
        <origin xyz="0.000305   -0.090327    0.002984" rpy="0 0 0"/>
        <parent link="Pelvis"/>
        <child link="RightUpperLeg_f1"/>
        <dynamics damping="0.1" friction="0.0"/>
        <limit effort="30" velocity="1.0" lower="-10.0" upper="10.0" />
        <axis xyz="1 0 0" />
    </joint>
	<joint name="jRightHip_roty" type="revolute">
        <origin xyz="0 0 0" rpy="0 0 0"/>
        <parent link="RightUpperLeg_f1"/>
        <child link="RightUpperLeg_f2"/>
        <dynamics damping="0.1" friction="0.0"/>
        <limit effort="30" velocity="1.0" lower="-10.0" upper="10.0" />
        <axis xyz="0 1 0" />
    </joint>
    <joint name="jRightHip_rotz" type="revolute">
        <origin xyz="0 0 0" rpy="0 0 0"/>
        <parent link="RightUpperLeg_f2"/>
        <child link="RightUpperLeg"/>
        <dynamics damping="0.1" friction="0.0"/>
        <limit effort="30" velocity="1.0" lower="-10.0" upper="10.0" />
        <axis xyz="0 0 1" />
    </joint>
	<joint name="jRightKnee_roty" type="revolute">
        <origin xyz="-9.6e-05           0    -0.46162" rpy="0 0 0"/>
        <parent link="RightUpperLeg"/>
        <child link="RightLowerLeg_f1"/>
        <dynamics damping="0.1" friction="0.0"/>
        <limit effort="30" velocity="1.0" lower="-10.0" upper="10.0" />
        <axis xyz="0 1 0" />
    </joint>
	<joint name="jRightKnee_rotz" type="revolute">
        <origin xyz="0 0 0" rpy="0 0 0"/>
        <parent link="RightLowerLeg_f1"/>
        <child link="RightLowerLeg"/>
        <dynamics damping="0.1" friction="0.0"/>
        <limit effort="30" velocity="1.0" lower="-10.0" upper="10.0" />
        <axis xyz="0 0 1" />
    </joint>
	<joint name="jRightAnkle_rotx" type="revolute">
        <origin xyz="-0.000118           0    -0.49826" rpy="0 0 0"/>
        <parent link="RightLowerLeg"/>
        <child link="RightFoot_f1"/>
        <dynamics damping="0.1" friction="0.0"/>
        <limit effort="30" velocity="1.0" lower="-10.0" upper="10.0" />
        <axis xyz="1 0 0" />
    </joint>
	<joint name="jRightAnkle_roty" type="revolute">
        <origin xyz="0 0 0" rpy="0 0 0"/>
        <parent link="RightFoot_f1"/>
        <child link="RightFoot_f2"/>
        <dynamics damping="0.1" friction="0.0"/>
        <limit effort="30" velocity="1.0" lower="-10.0" upper="10.0" />
        <axis xyz="0 1 0" />
    </joint>
    <joint name="jRightAnkle_rotz" type="revolute">
        <origin xyz="0 0 0" rpy="0 0 0"/>
        <parent link="RightFoot_f2"/>
        <child link="RightFoot"/>
        <dynamics damping="0.1" friction="0.0"/>
        <limit effort="30" velocity="1.0" lower="-10.0" upper="10.0" />
        <axis xyz="0 0 1" />
    </joint>
	<joint name="jRightBallFoot_roty" type="revolute">
        <origin xyz="0.15623           0   -0.066173" rpy="0 0 0"/>
        <parent link="RightFoot"/>
        <child link="RightToe"/>
        <dynamics damping="0.1" friction="0.0"/>
        <limit effort="30" velocity="1.0" lower="-10.0" upper="10.0" />
        <axis xyz="0 1 0" />
    </joint>
	<!--Chain from (20) to (23)-->
	<joint name="jLeftHip_rotx" type="revolute">
        <origin xyz="0.000305    0.090327    0.002984" rpy="0 0 0"/>
        <parent link="Pelvis"/>
        <child link="LeftUpperLeg_f1"/>
        <dynamics damping="0.1" friction="0.0"/>
        <limit effort="30" velocity="1.0" lower="-10.0" upper="10.0" />
        <axis xyz="1 0 0" />
    </joint>
	<joint name="jLeftHip_roty" type="revolute">
        <origin xyz="0 0 0" rpy="0 0 0"/>
        <parent link="LeftUpperLeg_f1"/>
        <child link="LeftUpperLeg_f2"/>
        <dynamics damping="0.1" friction="0.0"/>
        <limit effort="30" velocity="1.0" lower="-10.0" upper="10.0" />
        <axis xyz="0 1 0" />
    </joint>
    <joint name="jLeftHip_rotz" type="revolute">
        <origin xyz="0 0 0" rpy="0 0 0"/>
        <parent link="LeftUpperLeg_f2"/>
        <child link="LeftUpperLeg"/>
        <dynamics damping="0.1" friction="0.0"/>
        <limit effort="30" velocity="1.0" lower="-10.0" upper="10.0" />
        <axis xyz="0 0 1" />
    </joint>
	<joint name="jLeftKnee_roty" type="revolute">
        <origin xyz="-9.6e-05           0    -0.46162" rpy="0 0 0"/>
        <parent link="LeftUpperLeg"/>
        <child link="LeftLowerLeg_f1"/>
        <dynamics damping="0.1" friction="0.0"/>
        <limit effort="30" velocity="1.0" lower="-10.0" upper="10.0" />
        <axis xyz="0 1 0" />
    </joint>
    <joint name="jLeftKnee_rotz" type="revolute">
        <origin xyz="0 0 0" rpy="0 0 0"/>
        <parent link="LeftLowerLeg_f1"/>
        <child link="LeftLowerLeg"/>
        <dynamics damping="0.1" friction="0.0"/>
        <limit effort="30" velocity="1.0" lower="-10.0" upper="10.0" />
        <axis xyz="0 0 1" />
    </joint>
	<joint name="jLeftAnkle_rotx" type="revolute">
        <origin xyz="-0.000118           0    -0.49826" rpy="0 0 0"/>
        <parent link="LeftLowerLeg"/>
        <child link="LeftFoot_f1"/>
        <dynamics damping="0.1" friction="0.0"/>
        <limit effort="30" velocity="1.0" lower="-10.0" upper="10.0" />
        <axis xyz="1 0 0" />
    </joint>
	<joint name="jLeftAnkle_roty" type="revolute">
        <origin xyz="0 0 0" rpy="0 0 0"/>
        <parent link="LeftFoot_f1"/>
        <child link="LeftFoot_f2"/>
        <dynamics damping="0.1" friction="0.0"/>
        <limit effort="30" velocity="1.0" lower="-10.0" upper="10.0" />
        <axis xyz="0 1 0" />
    </joint>
    <joint name="jLeftAnkle_rotz" type="revolute">
        <origin xyz="0 0 0" rpy="0 0 0"/>
        <parent link="LeftFoot_f2"/>
        <child link="LeftFoot"/>
        <dynamics damping="0.1" friction="0.0"/>
        <limit effort="30" velocity="1.0" lower="-10.0" upper="10.0" />
        <axis xyz="0 0 1" />
    </joint>
	<joint name="jLeftBallFoot_roty" type="revolute">
        <origin xyz="0.15623           0   -0.066173" rpy="0 0 0"/>
        <parent link="LeftFoot"/>
        <child link="LeftToe"/>
        <dynamics damping="0.1" friction="0.0"/>
        <limit effort="30" velocity="1.0" lower="-10.0" upper="10.0" />
        <axis xyz="0 1 0" />
    </joint>

	<!-- Sensor  1-->
<sensor name="Pelvis_gyro" type="gyroscope">
<parent link="Pelvis"/>
<origin xyz="-0.062857 -1.8398e-05      0.1074" rpy="-0.0050396      1.2633      2.9774"/>
</sensor>
<sensor name="Pelvis_accelerometer" type="accelerometer">
<parent link="Pelvis"/>
<origin xyz="-0.062857 -1.8398e-05      0.1074" rpy="-0.0050396      1.2633      2.9774"/>
</sensor>
<!-- Sensor  2-->
<sensor name="T8_gyro" type="gyroscope">
<parent link="T8"/>
<origin xyz="0.13018  6.5003e-06    0.071583" rpy="0.14317      1.3529    -0.01946"/>
</sensor>
<sensor name="T8_accelerometer" type="accelerometer">
<parent link="T8"/>
<origin xyz="0.13018  6.5003e-06    0.071583" rpy="0.14317      1.3529    -0.01946"/>
</sensor>
<!-- Sensor  3-->
<sensor name="Head_gyro" type="gyroscope">
<parent link="Head"/>
<origin xyz="-0.077662 -0.00013615    0.085266" rpy="-2.1851   -0.071843      1.5454"/>
</sensor>
<sensor name="Head_accelerometer" type="accelerometer">
<parent link="Head"/>
<origin xyz="-0.077662 -0.00013615    0.085266" rpy="-2.1851   -0.071843      1.5454"/>
</sensor>
<!-- Sensor  4-->
<sensor name="RightShoulder_gyro" type="gyroscope">
<parent link="RightShoulder"/>
<origin xyz="-0.022584   -0.056484   -0.067792" rpy="1.146      -0.374     -1.5141"/>
</sensor>
<sensor name="RightShoulder_accelerometer" type="accelerometer">
<parent link="RightShoulder"/>
<origin xyz="-0.022584   -0.056484   -0.067792" rpy="1.146      -0.374     -1.5141"/>
</sensor>
<!-- Sensor  5-->
<sensor name="RightUpperArm_gyro" type="gyroscope">
<parent link="RightUpperArm"/>
<origin xyz="-0.020897    -0.10444    0.020892" rpy="0.19605    -0.10235     -1.4018"/>
</sensor>
<sensor name="RightUpperArm_accelerometer" type="accelerometer">
<parent link="RightUpperArm"/>
<origin xyz="-0.020897    -0.10444    0.020892" rpy="0.19605    -0.10235     -1.4018"/>
</sensor>
<!-- Sensor  6-->
<sensor name="RightForeArm_gyro" type="gyroscope">
<parent link="RightForeArm"/>
<origin xyz="0.0019206    -0.21008    0.020977" rpy="-0.80706     0.10603     -1.3521"/>
</sensor>
<sensor name="RightForeArm_accelerometer" type="accelerometer">
<parent link="RightForeArm"/>
<origin xyz="0.0019206    -0.21008    0.020977" rpy="-0.80706     0.10603     -1.3521"/>
</sensor>
<!-- Sensor  7-->
<sensor name="RightHand_gyro" type="gyroscope">
<parent link="RightHand"/>
<origin xyz="5.3766e-05   -0.058118    0.021066" rpy="-0.64095    -0.19885     -1.4456"/>
</sensor>
<sensor name="RightHand_accelerometer" type="accelerometer">
<parent link="RightHand"/>
<origin xyz="5.3766e-05   -0.058118    0.021066" rpy="-0.64095    -0.19885     -1.4456"/>
</sensor>
<!-- Sensor  8-->
<sensor name="LeftShoulder_gyro" type="gyroscope">
<parent link="LeftShoulder"/>
<origin xyz="-0.022635    0.056537   -0.067774" rpy="-1.0729    -0.33304      1.3952"/>
</sensor>
<sensor name="LeftShoulder_accelerometer" type="accelerometer">
<parent link="LeftShoulder"/>
<origin xyz="-0.022635    0.056537   -0.067774" rpy="-1.0729    -0.33304      1.3952"/>
</sensor>
<!-- Sensor  9-->
<sensor name="LeftUpperArm_gyro" type="gyroscope">
<parent link="LeftUpperArm"/>
<origin xyz="-0.02087     0.10443    0.020883" rpy="0.12846    -0.11878      1.5127"/>
</sensor>
<sensor name="LeftUpperArm_accelerometer" type="accelerometer">
<parent link="LeftUpperArm"/>
<origin xyz="-0.02087     0.10443    0.020883" rpy="0.12846    -0.11878      1.5127"/>
</sensor>
<!-- Sensor  10-->
<sensor name="LeftForeArm_gyro" type="gyroscope">
<parent link="LeftForeArm"/>
<origin xyz="0.0019212     0.21011     0.02099" rpy="0.53492 -0.00074302      1.2794"/>
</sensor>
<sensor name="LeftForeArm_accelerometer" type="accelerometer">
<parent link="LeftForeArm"/>
<origin xyz="0.0019212     0.21011     0.02099" rpy="0.53492 -0.00074302      1.2794"/>
</sensor>
<!-- Sensor  11-->
<sensor name="LeftHand_gyro" type="gyroscope">
<parent link="LeftHand"/>
<origin xyz="3.3346e-07    0.058134    0.021142" rpy="0.80169    0.081674      1.2598"/>
</sensor>
<sensor name="LeftHand_accelerometer" type="accelerometer">
<parent link="LeftHand"/>
<origin xyz="3.3346e-07    0.058134    0.021142" rpy="0.80169    0.081674      1.2598"/>
</sensor>
<!-- Sensor  12-->
<sensor name="RightUpperLeg_gyro" type="gyroscope">
<parent link="RightUpperLeg"/>
<origin xyz="0.013536   -0.047258    -0.27906" rpy="-2.8977      1.4016      1.8668"/>
</sensor>
<sensor name="RightUpperLeg_accelerometer" type="accelerometer">
<parent link="RightUpperLeg"/>
<origin xyz="0.013536   -0.047258    -0.27906" rpy="-2.8977      1.4016      1.8668"/>
</sensor>
<!-- Sensor  13-->
<sensor name="RightLowerLeg_gyro" type="gyroscope">
<parent link="RightLowerLeg"/>
<origin xyz="0.03773   0.0085744     -0.1618" rpy="2.9748      1.4484     -3.0065"/>
</sensor>
<sensor name="RightLowerLeg_accelerometer" type="accelerometer">
<parent link="RightLowerLeg"/>
<origin xyz="0.03773   0.0085744     -0.1618" rpy="2.9748      1.4484     -3.0065"/>
</sensor>
<!-- Sensor  14-->
<sensor name="RightFoot_gyro" type="gyroscope">
<parent link="RightFoot"/>
<origin xyz="0.08973   0.0014517   -0.012565" rpy="0.18531     0.55179    -0.55484"/>
</sensor>
<sensor name="RightFoot_accelerometer" type="accelerometer">
<parent link="RightFoot"/>
<origin xyz="0.08973   0.0014517   -0.012565" rpy="0.18531     0.55179    -0.55484"/>
</sensor>
<!-- Sensor  15-->
<sensor name="LeftUpperLeg_gyro" type="gyroscope">
<parent link="LeftUpperLeg"/>
<origin xyz="0.013447    0.047218    -0.27908" rpy="2.2382       1.347     -2.4082"/>
</sensor>
<sensor name="LeftUpperLeg_accelerometer" type="accelerometer">
<parent link="LeftUpperLeg"/>
<origin xyz="0.013447    0.047218    -0.27908" rpy="2.2382       1.347     -2.4082"/>
</sensor>
<!-- Sensor  16-->
<sensor name="LeftLowerLeg_gyro" type="gyroscope">
<parent link="LeftLowerLeg"/>
<origin xyz="0.037573   -0.008592    -0.16166" rpy="-2.8643      1.3936      3.0052"/>
</sensor>
<sensor name="LeftLowerLeg_accelerometer" type="accelerometer">
<parent link="LeftLowerLeg"/>
<origin xyz="0.037573   -0.008592    -0.16166" rpy="-2.8643      1.3936      3.0052"/>
</sensor>
<!-- Sensor  17-->
<sensor name="LeftFoot_gyro" type="gyroscope">
<parent link="LeftFoot"/>
<origin xyz="0.089708  -0.0015951   -0.012714" rpy="-0.58856      0.4396     0.11655"/>
</sensor>
<sensor name="LeftFoot_accelerometer" type="accelerometer">
<parent link="LeftFoot"/>
<origin xyz="0.089708  -0.0015951   -0.012714" rpy="-0.58856      0.4396     0.11655"/>
</sensor>


</robot>
